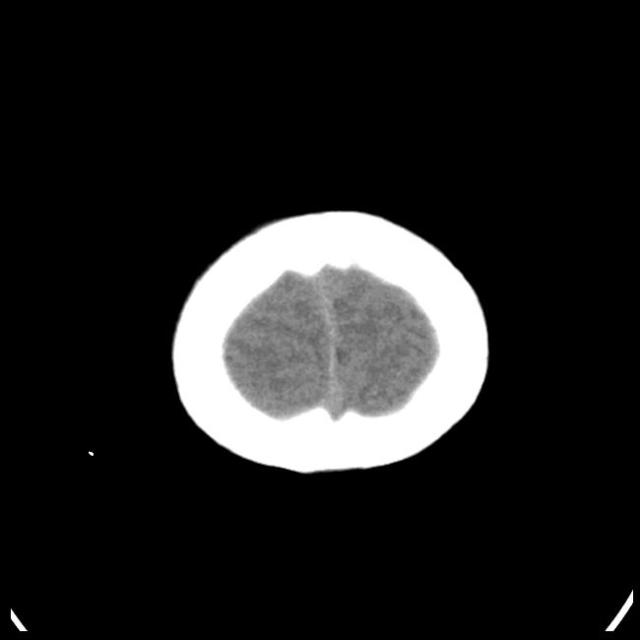lesion: (166, 204, 494, 477)
